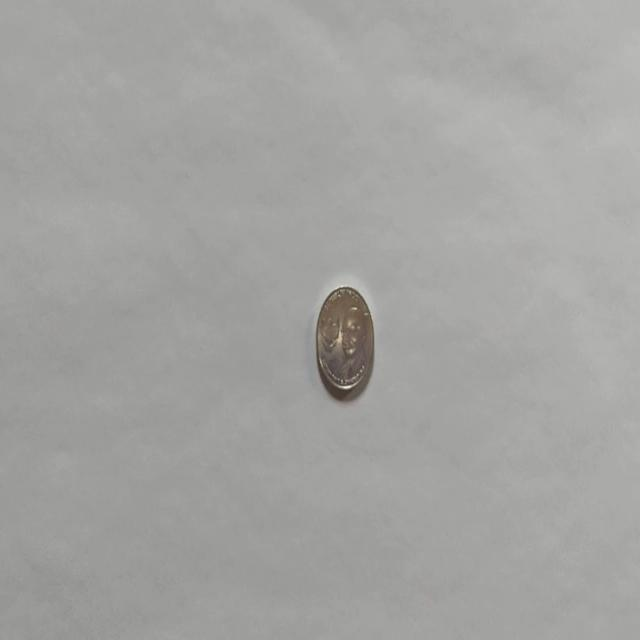lima ratus rupiah: (314, 284, 374, 398)
